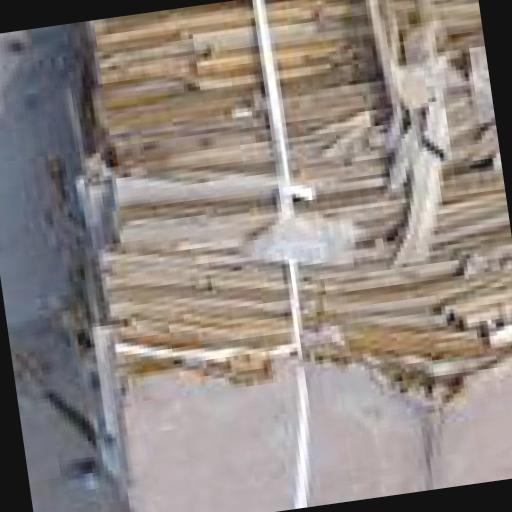cardboard: (75, 261, 512, 484), (104, 323, 512, 512), (78, 0, 492, 177), (66, 110, 502, 258), (71, 197, 512, 337), (108, 162, 508, 288)
